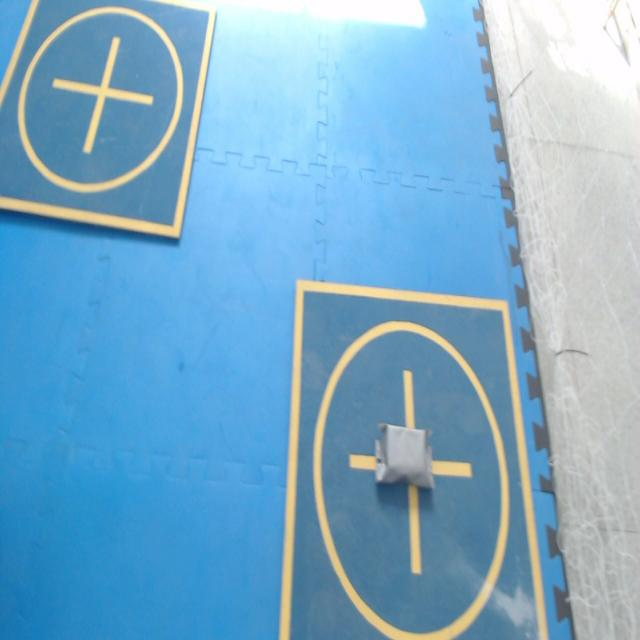lipo: (375, 424, 434, 487)
